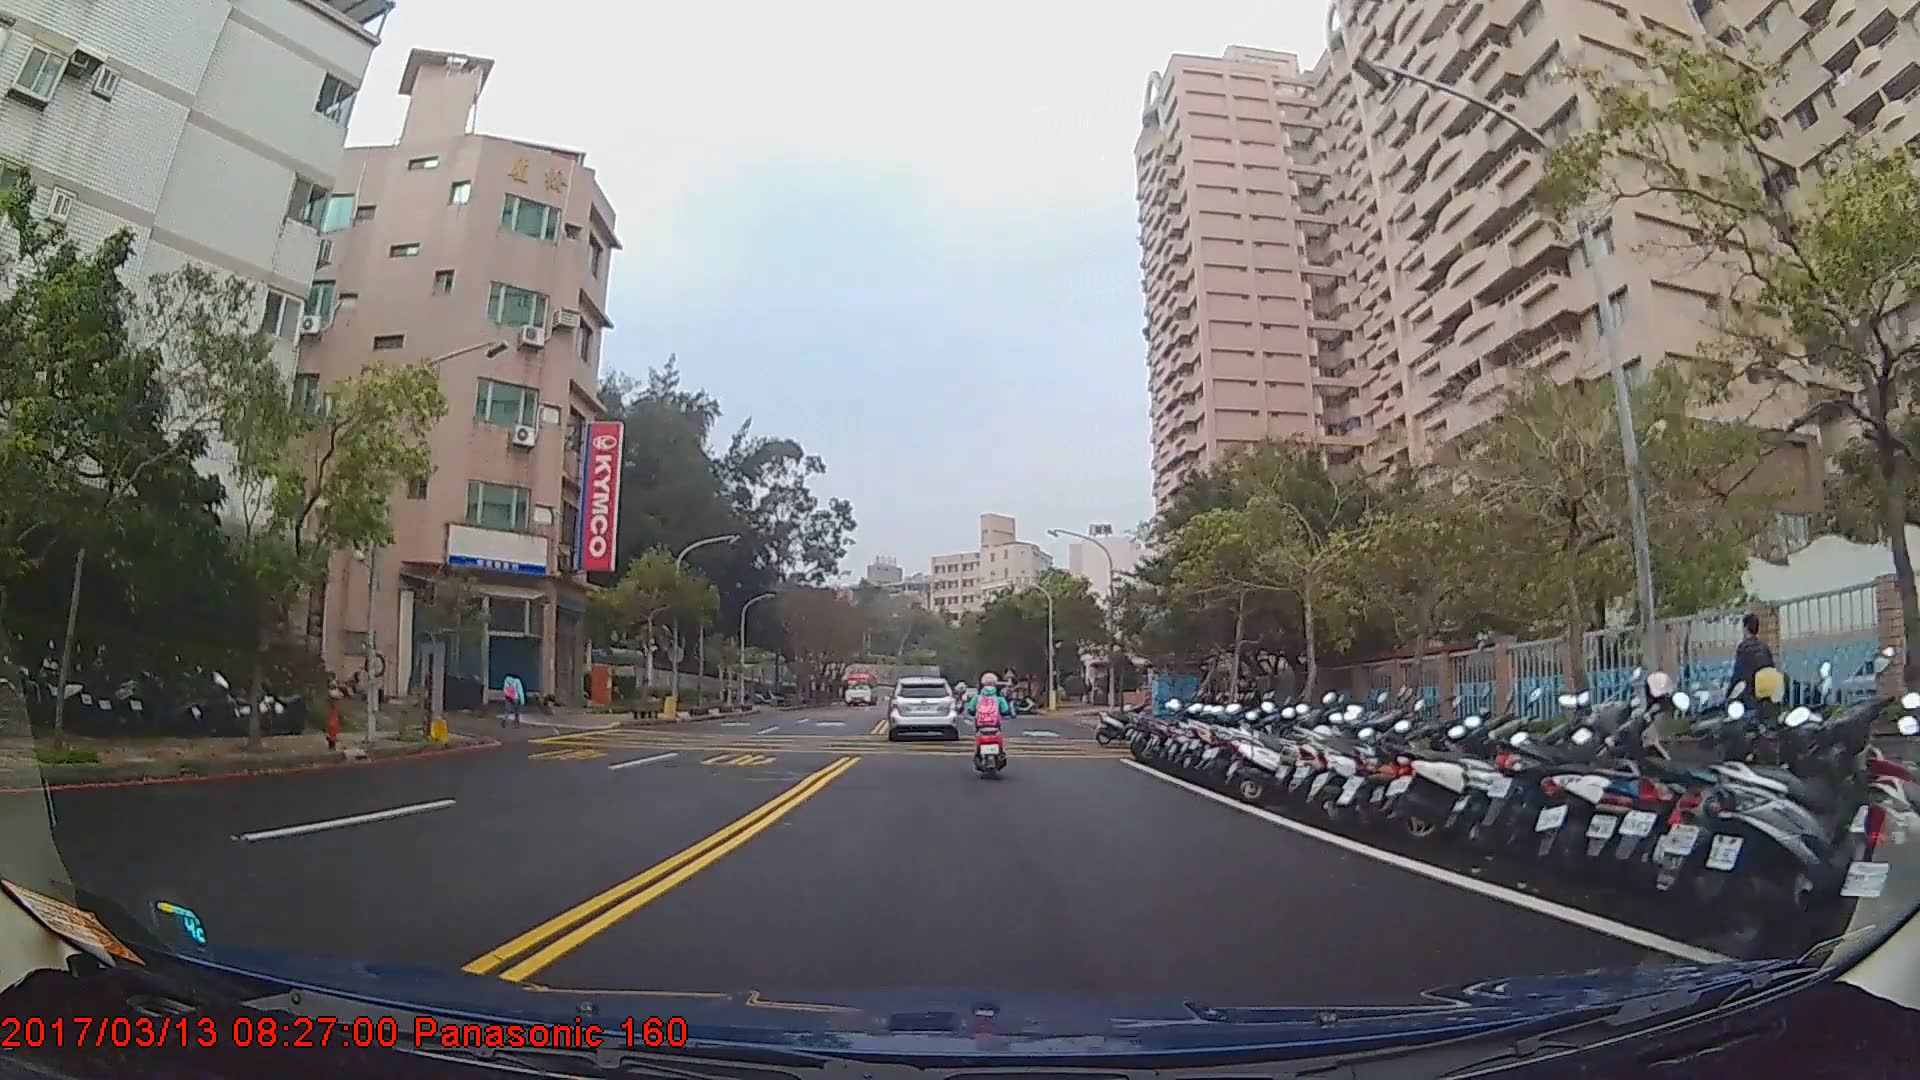pedestrian: (1727, 608, 1785, 772), (503, 665, 527, 730)
rider: (965, 665, 1013, 782)
vehicle: (887, 674, 960, 739), (841, 670, 878, 706)
